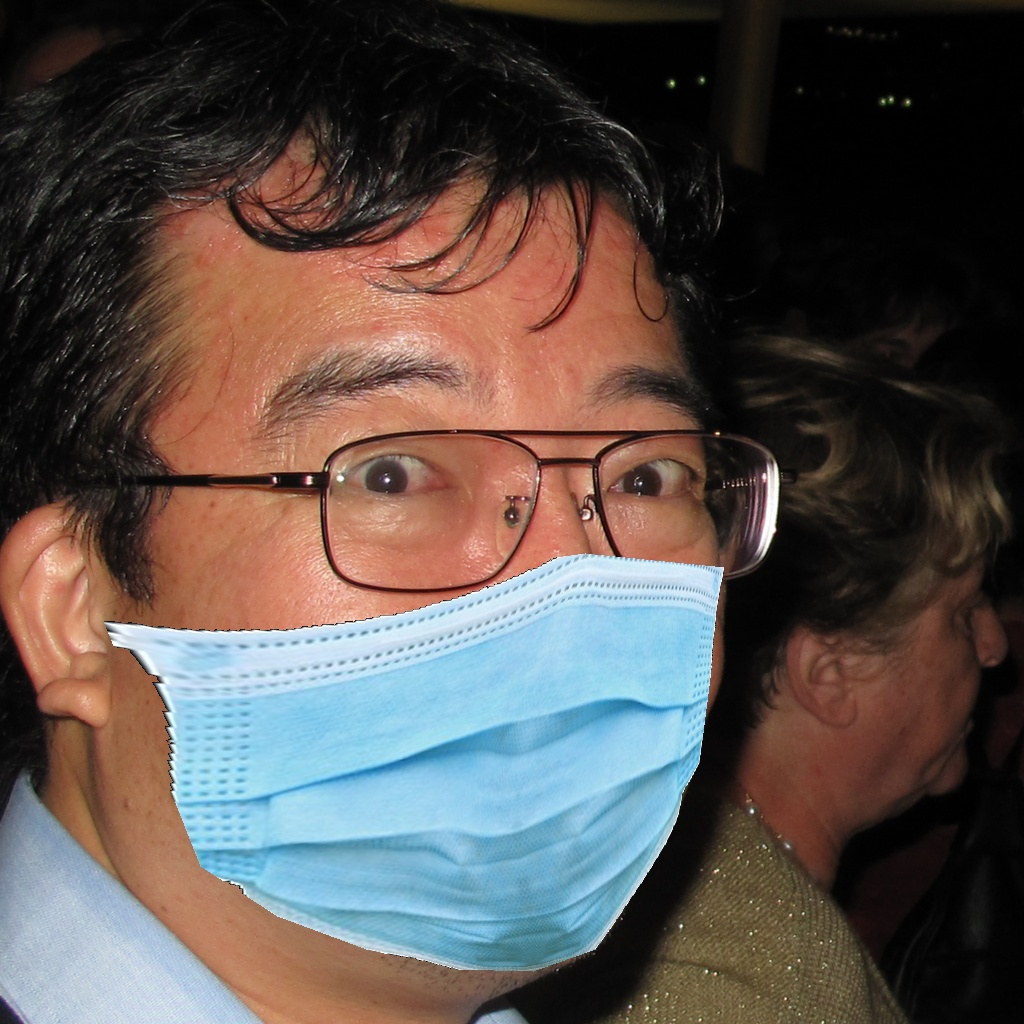Mask: (111, 322, 727, 980)
